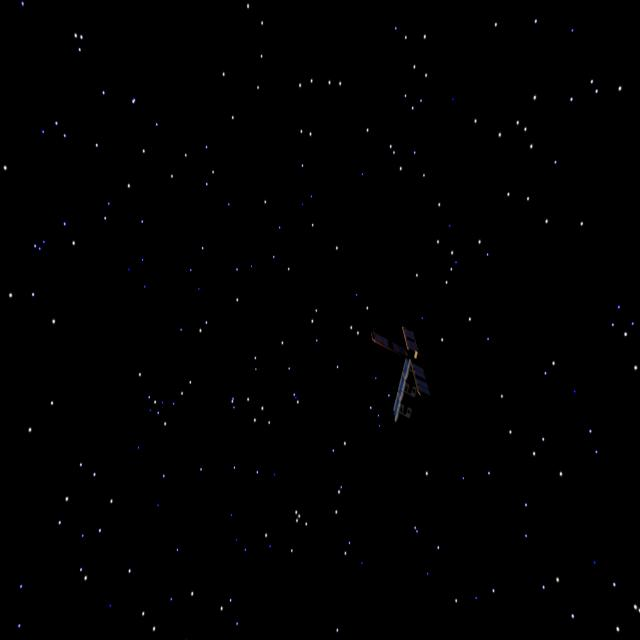satellite: (364, 324, 436, 425)
